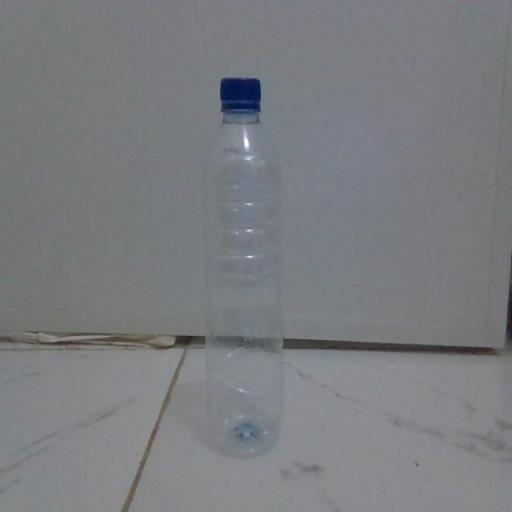plastic: (200, 76, 286, 458)
